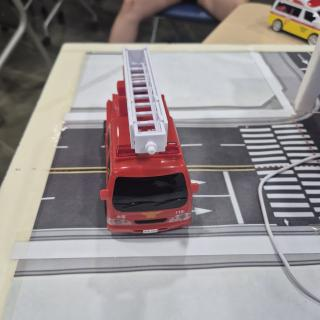Fire_truck: (100, 47, 198, 234)
